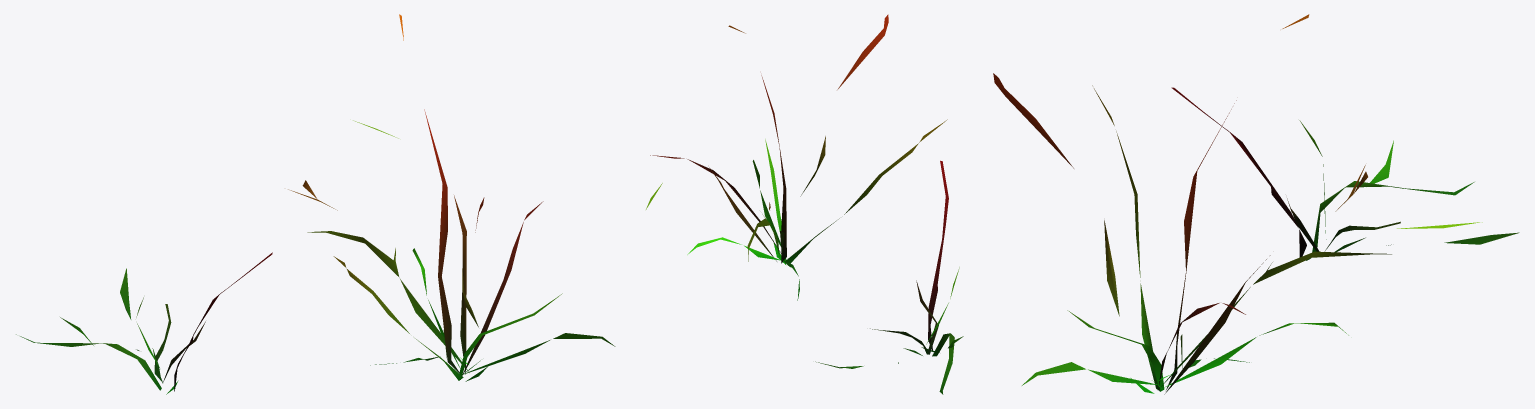
Rendered from SM_OW_GrassTuft_b_LOD2.fbx.
The picture shows the model from 3 angles, left to right: view 1: azimuth 30°, elevation 25°; view 2: azimuth 150°, elevation 25°; view 3: azimuth 270°, elevation 25°; orthographic projection. The views are drawn at different scales.
Visible parts, largest first — view 1: SM_OW_GrassTuft_b_LOD2; view 2: SM_OW_GrassTuft_b_LOD2; view 3: SM_OW_GrassTuft_b_LOD2.
Boxes of the visible parts, box(x1,y1,x2,y2) form: SM_OW_GrassTuft_b_LOD2: box(16, 14, 615, 394); SM_OW_GrassTuft_b_LOD2: box(646, 14, 963, 394); SM_OW_GrassTuft_b_LOD2: box(993, 14, 1519, 394).
Size of the model in its own units: 0.4123 by 0.2919 by 0.3661.
